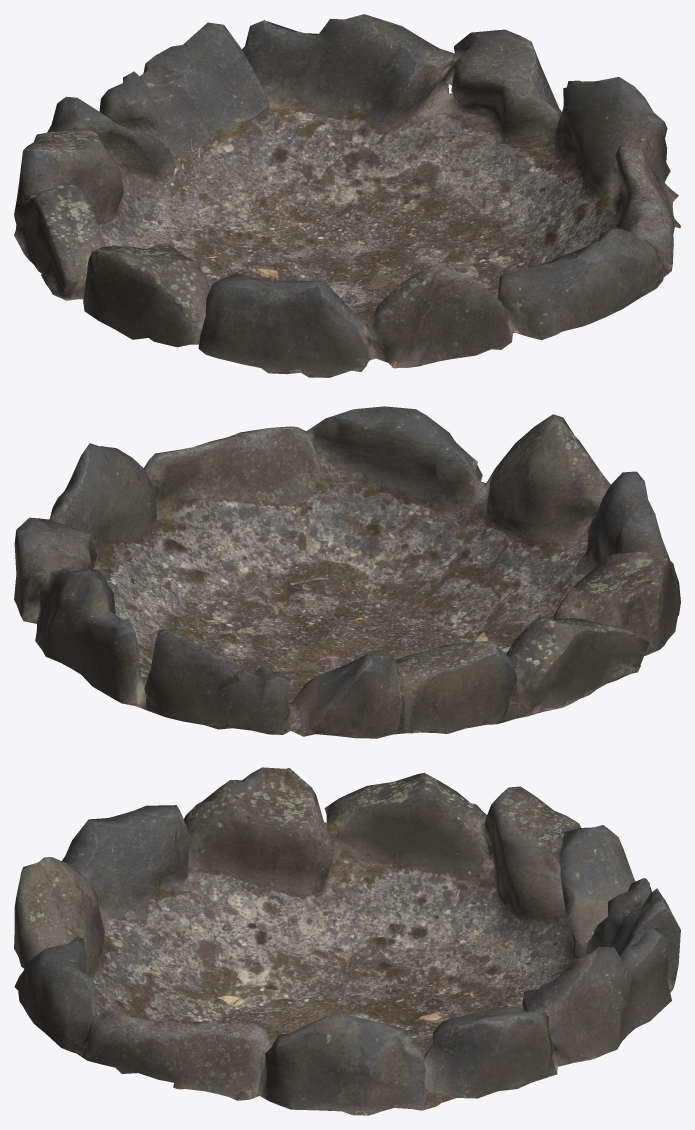
The model's file is stone_fire_pit_1k.gltf.obj.
3 views of the same model, one above another, from view 1: azimuth 30°, elevation 25°; view 2: azimuth 150°, elevation 25°; view 3: azimuth 270°, elevation 25° (orthographic).
Parts seen in each view (by area): view 1: obj1; view 2: obj1; view 3: obj1.
Boxes of the visible parts, x1,y1,x2,y2 form: obj1: [14, 14, 680, 377]; obj1: [14, 406, 680, 738]; obj1: [14, 767, 680, 1115].
Bounding box in the file's own units: 1.45 × 0.3883 × 1.43.
